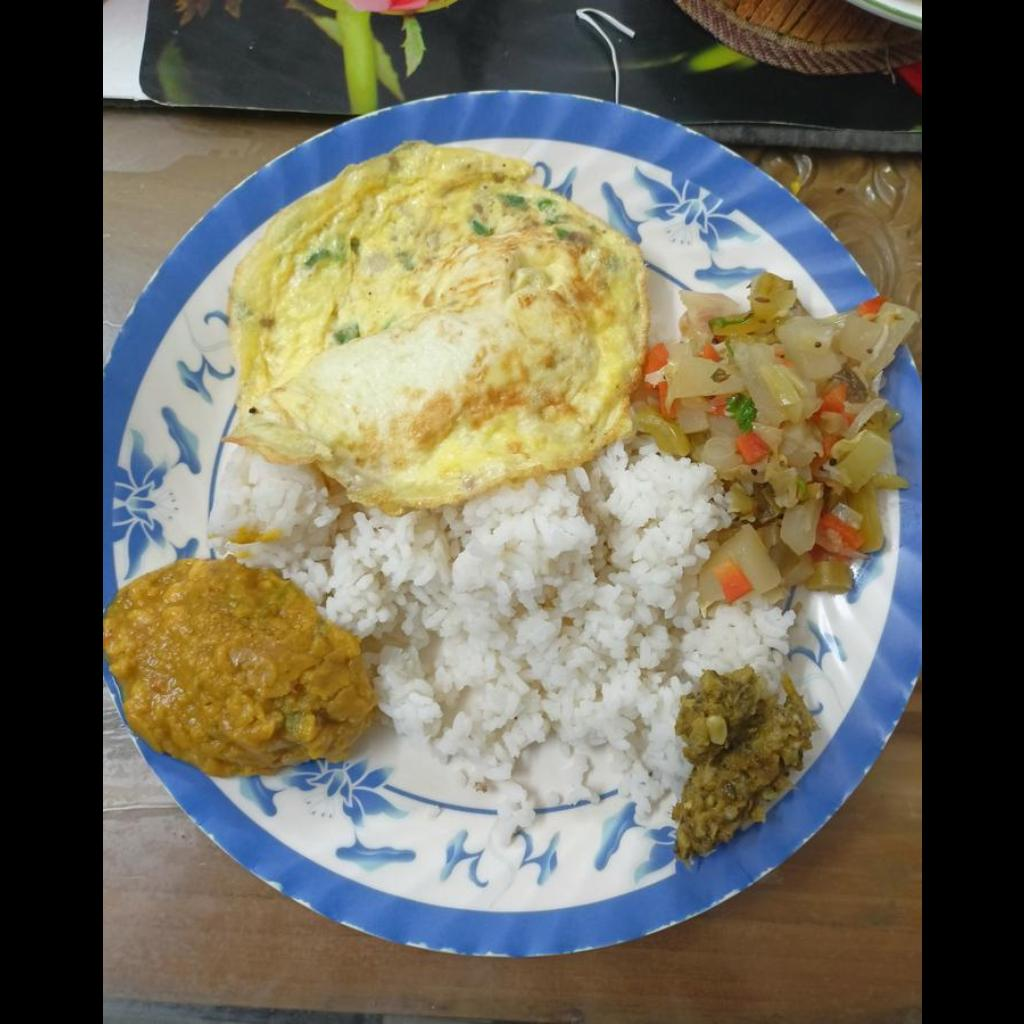daal: (102, 556, 375, 777)
egg-poached: (225, 141, 646, 507)
rice: (219, 450, 798, 832)
vegetable: (640, 283, 914, 600)
vorta: (671, 668, 814, 861)
